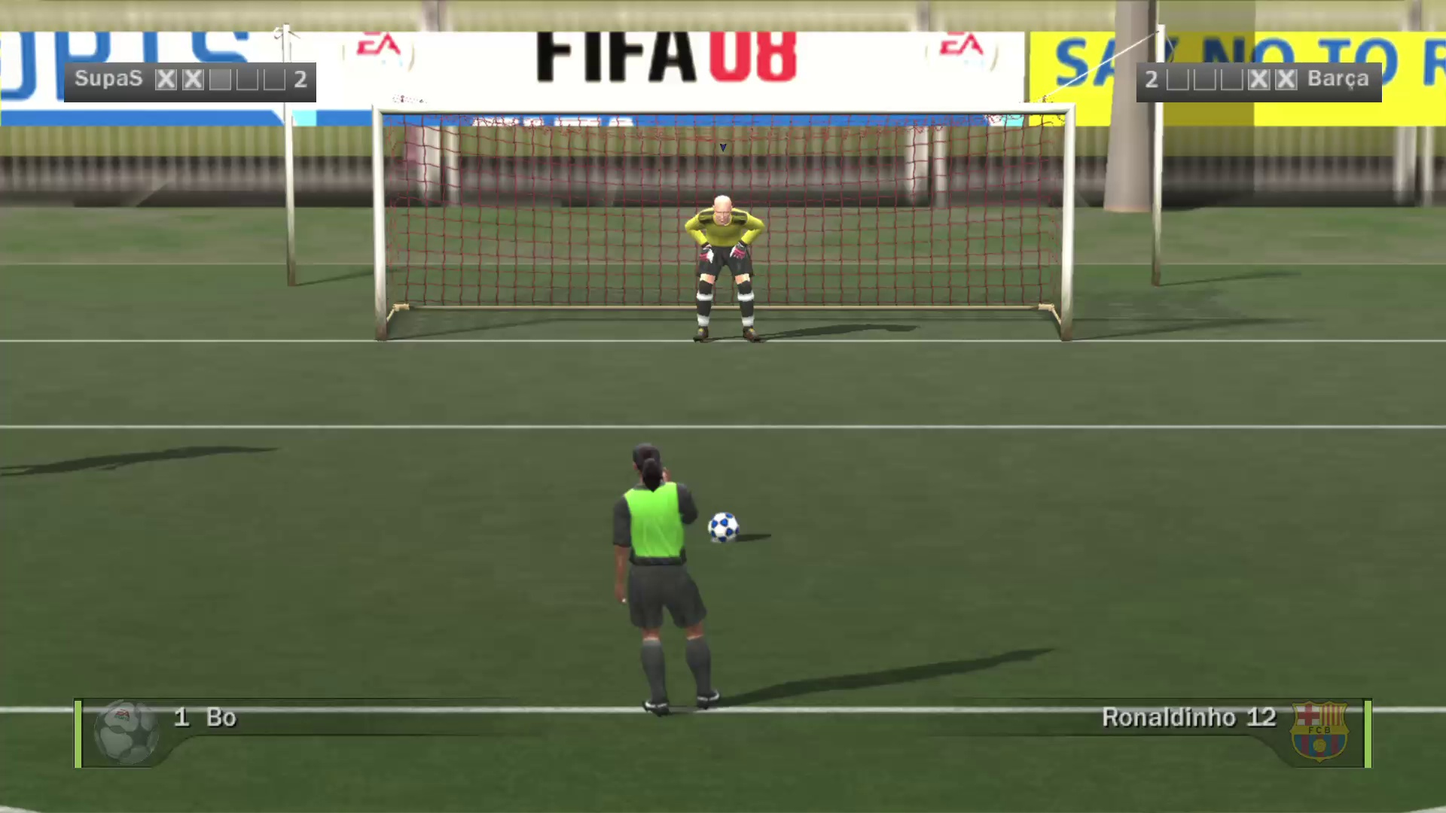ball: (692, 496, 724, 528)
goal_post: (46, 1, 721, 229)
keeper: (659, 123, 728, 269)
kicker: (563, 302, 659, 574)
